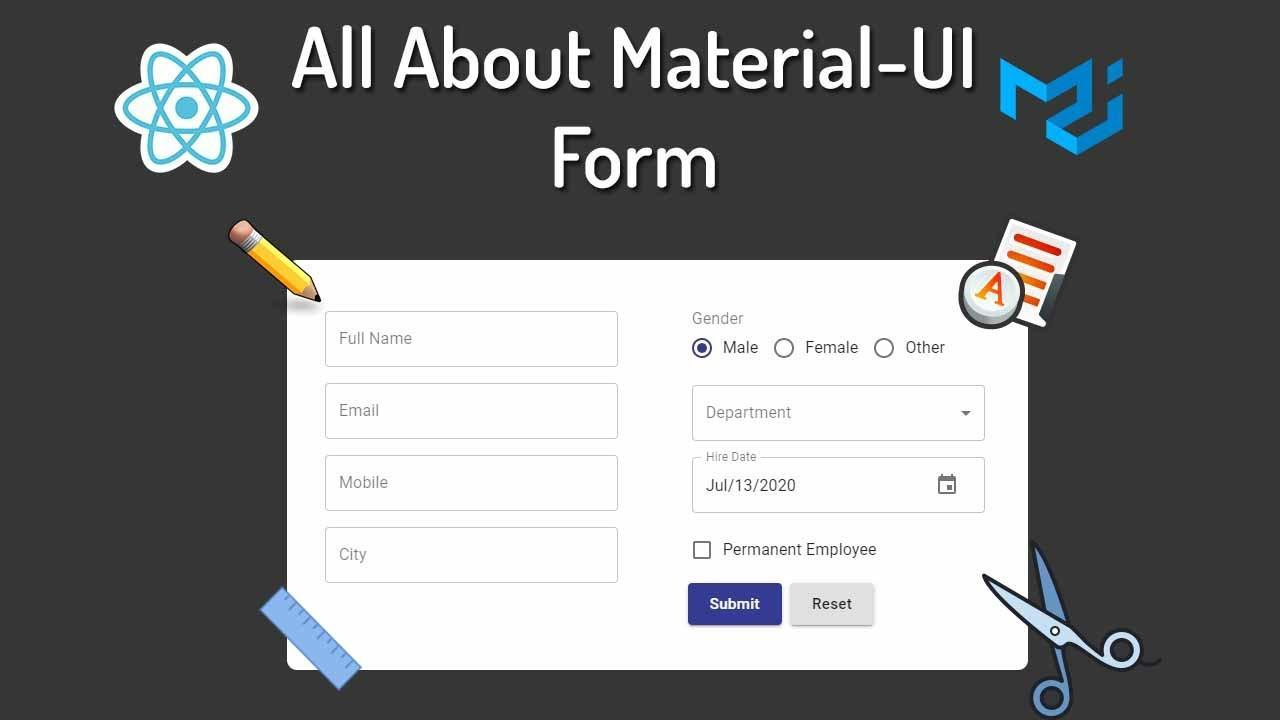button: (790, 580, 879, 629), (688, 583, 782, 627)
checkbox: (694, 541, 714, 561)
dropdown: (694, 385, 986, 443)
input: (692, 455, 985, 516), (325, 309, 619, 369), (328, 381, 618, 440), (327, 529, 619, 586), (325, 455, 620, 510)
label: (720, 536, 882, 565), (686, 307, 751, 332), (805, 336, 858, 359), (722, 335, 765, 363), (902, 338, 949, 361)
radio: (691, 334, 717, 363), (871, 335, 897, 363), (772, 336, 797, 360)
